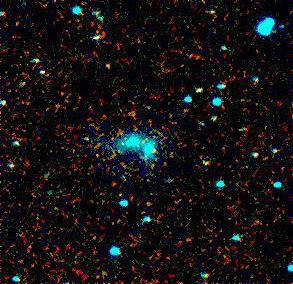star: (94, 46, 124, 76)
